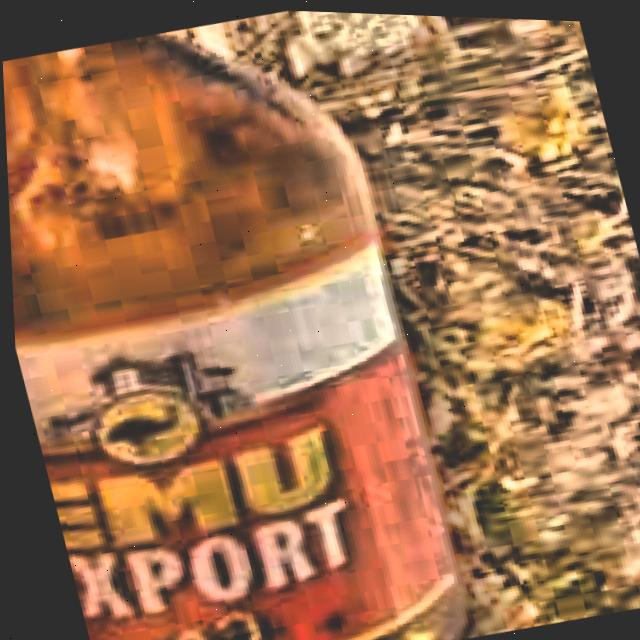glass: (2, 30, 465, 640)
